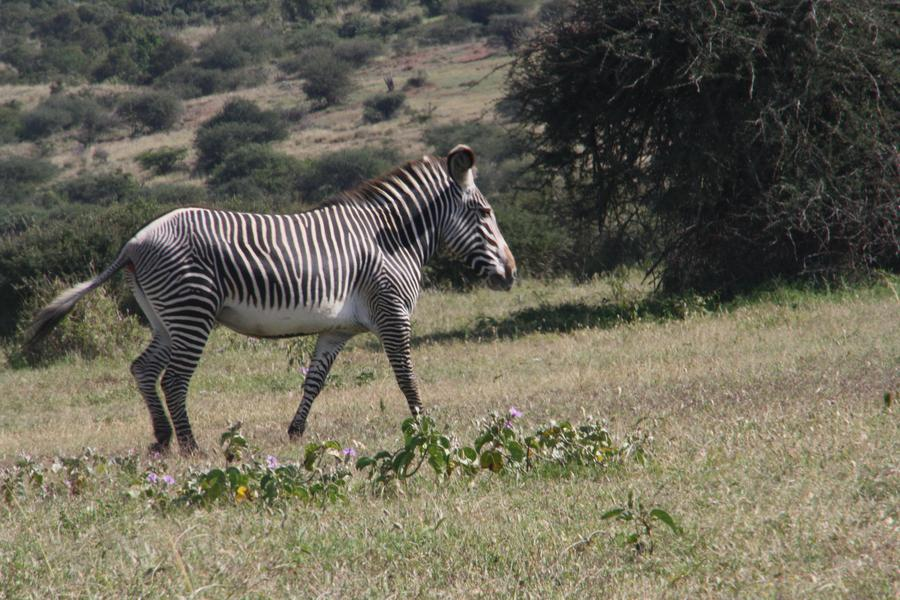zebra_grevys: (130, 203, 416, 319)
